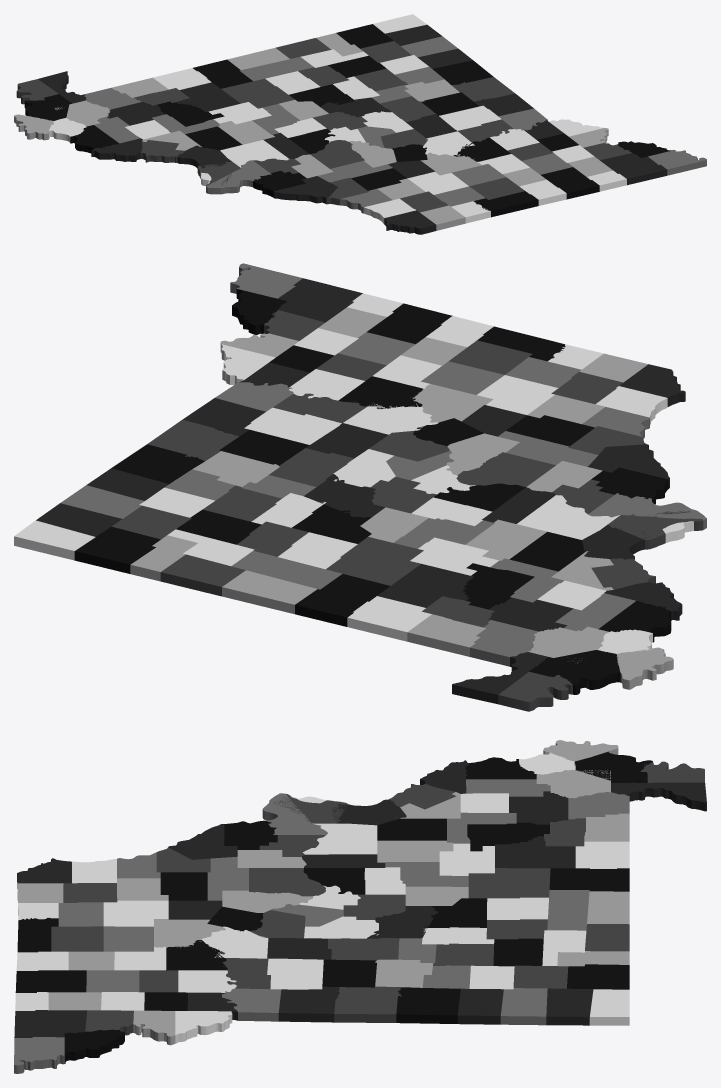
Rendered from Missouri_Counties_3D.fbx.
3 views of the same model, one above another, from view 1: azimuth 30°, elevation 25°; view 2: azimuth 150°, elevation 25°; view 3: azimuth 270°, elevation 25° (orthographic). The views are drawn at different scales.
Visible parts, largest first — view 1: MO_Nodaway_County_3D, MO_Texas_County_3D, MO_Shannon_County_3D, MO_Pike_County_3D, MO_St_Charles_County_3D, MO_Harrison_County_3D, MO_Franklin_County_3D, MO_Howell_County_3D, MO_Putnam_County_3D, MO_Callaway_County_3D, MO_New_Madrid_County_3D, MO_Bates_County_3D (+102 smaller); view 2: MO_Texas_County_3D, MO_Howell_County_3D, MO_Shannon_County_3D, MO_New_Madrid_County_3D, MO_Barry_County_3D, MO_Ozark_County_3D, MO_Oregon_County_3D, MO_Nodaway_County_3D, MO_Franklin_County_3D, MO_Callaway_County_3D, MO_Taney_County_3D, MO_Bates_County_3D (+102 smaller); view 3: MO_Texas_County_3D, MO_Bates_County_3D, MO_Vernon_County_3D, MO_Shannon_County_3D, MO_Cass_County_3D, MO_Franklin_County_3D, MO_Nodaway_County_3D, MO_Howell_County_3D, MO_Dunklin_County_3D, MO_Callaway_County_3D, MO_Johnson_County_3D, MO_Newton_County_3D (+102 smaller).
Part boxes in pixels (x1,y1,x2,y2): MO_Nodaway_County_3D: (600,153,667,185); MO_Texas_County_3D: (221,78,294,108); MO_Shannon_County_3D: (176,82,240,111); MO_Pike_County_3D: (273,176,337,203); MO_St_Charles_County_3D: (206,160,271,194); MO_Harrison_County_3D: (541,167,599,199); MO_Franklin_County_3D: (220,140,289,167); MO_Howell_County_3D: (193,59,252,88); MO_Putnam_County_3D: (473,191,538,217); MO_Callaway_County_3D: (310,140,364,168); MO_New_Madrid_County_3D: (24,94,71,120); MO_Bates_County_3D: (452,77,514,101); MO_Texas_County_3D: (326,537,423,585); MO_Howell_County_3D: (295,574,389,626); MO_Shannon_County_3D: (377,564,474,607); MO_New_Madrid_County_3D: (529,650,620,694); MO_Barry_County_3D: (74,526,160,573); MO_Ozark_County_3D: (222,570,317,614); MO_Oregon_County_3D: (347,596,431,641); MO_Nodaway_County_3D: (278,278,362,322); MO_Franklin_County_3D: (517,495,620,539); MO_Callaway_County_3D: (456,452,555,486); MO_Taney_County_3D: (160,554,245,596); MO_Bates_County_3D: (147,419,238,461); MO_Texas_County_3D: (468,868,550,898); MO_Bates_County_3D: (334,986,401,1022); MO_Vernon_County_3D: (396,987,460,1023); MO_Shannon_County_3D: (495,836,575,868); MO_Cass_County_3D: (278,986,339,1022); MO_Franklin_County_3D: (303,823,377,854); MO_Nodaway_County_3D: (14,1010,87,1037); MO_Howell_County_3D: (549,868,629,891); MO_Dunklin_County_3D: (611,782,706,811); MO_Callaway_County_3D: (249,868,325,896); MO_Johnson_County_3D: (267,958,323,989); MO_Newton_County_3D: (546,988,593,1025).
Bounding box in the file's own units: 805 × 10 × 725.
